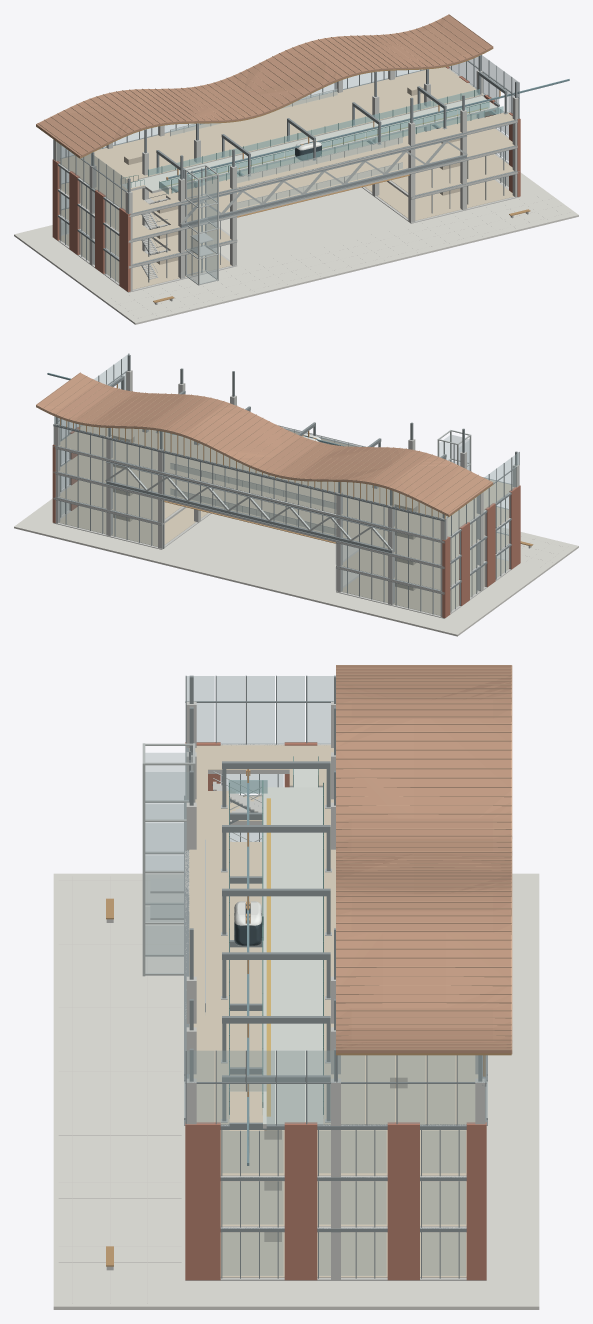
The model's file is T1_Xinhua_Gate_Cutaway_V04.glb.
3 renders of one model, top to bottom at view 1: azimuth 30°, elevation 25°; view 2: azimuth 150°, elevation 25°; view 3: azimuth 270°, elevation 25°, orthographic. The views are drawn at different scales.
Parts seen in each view (by area): view 1: DISPLAY_PLINTH_0001, COPPER_WAVE_ROOF_0001, FLOOR_FINISH_0006, FLOOR_FINISH_0005, STATION_PLATFORM_FINISH_0001, FLOOR_FINISH_0002, FLOOR_FINISH_0001, STATION_OUTER_GUARD_0027, FLOOR_FINISH_0004, FLOOR_FINISH_0003, STATION_OUTER_GUARD_0001, FLOOR_SLABS_0006_transfer (+29 smaller); view 2: DISPLAY_PLINTH_0001, COPPER_WAVE_ROOF_0001, FLOOR_FINISH_0006, FLOOR_FINISH_0005, FLOOR_FINISH_0002, FLOOR_FINISH_0001, FLOOR_FINISH_0003, FLOOR_FINISH_0004, BACK_ROOF_EDGE_0001, FLOOR_SLABS_0006_transfer, FLOOR_SLABS_0005_transfer, SIDE_BRICK_WALLS_0001 (+24 smaller); view 3: DISPLAY_PLINTH_0001, COPPER_WAVE_ROOF_0001, FLOOR_FINISH_0006, STATION_PLATFORM_FINISH_0001, FLOOR_FINISH_0005, FLOOR_FINISH_0004, FLOOR_FINISH_0002, SIDE_BRICK_WALLS_0005, SIDE_BRICK_WALLS_0006, SIDE_BRICK_WALLS_0007, SIDE_BRICK_WALLS_0008, SIDE_GLAZING_0010 (+41 smaller).
Part boxes in pixels (box(x1,y1,x2,y2)): DISPLAY_PLINTH_0001: box(14, 172, 578, 324); COPPER_WAVE_ROOF_0001: box(36, 15, 493, 157); FLOOR_FINISH_0006: box(59, 67, 514, 212); FLOOR_FINISH_0005: box(61, 115, 514, 238); STATION_PLATFORM_FINISH_0001: box(138, 96, 496, 191); FLOOR_FINISH_0002: box(365, 180, 513, 220); FLOOR_FINISH_0001: box(61, 233, 231, 289); STATION_OUTER_GUARD_0027: box(148, 89, 479, 175); FLOOR_FINISH_0004: box(391, 154, 513, 195); FLOOR_FINISH_0003: box(61, 208, 231, 263); STATION_OUTER_GUARD_0001: box(172, 106, 503, 192); FLOOR_SLABS_0006_transfer: box(58, 68, 517, 216); DISPLAY_PLINTH_0001: box(14, 498, 578, 636); COPPER_WAVE_ROOF_0001: box(37, 373, 493, 515); FLOOR_FINISH_0006: box(59, 425, 513, 539); FLOOR_FINISH_0005: box(59, 454, 509, 564); FLOOR_FINISH_0002: box(59, 506, 208, 546); FLOOR_FINISH_0001: box(342, 558, 508, 615); FLOOR_FINISH_0003: box(342, 533, 508, 589); FLOOR_FINISH_0004: box(59, 480, 181, 521); BACK_ROOF_EDGE_0001: box(36, 404, 449, 516); FLOOR_SLABS_0006_transfer: box(53, 425, 510, 543); FLOOR_SLABS_0005_transfer: box(53, 461, 510, 568); SIDE_BRICK_WALLS_0001: box(509, 485, 520, 569); DISPLAY_PLINTH_0001: box(53, 873, 539, 1309); COPPER_WAVE_ROOF_0001: box(336, 666, 511, 1053); FLOOR_FINISH_0006: box(189, 745, 478, 1124); STATION_PLATFORM_FINISH_0001: box(263, 787, 323, 1124); FLOOR_FINISH_0005: box(220, 796, 466, 1175); FLOOR_FINISH_0004: box(220, 1181, 466, 1226); FLOOR_FINISH_0002: box(220, 1232, 466, 1277); SIDE_BRICK_WALLS_0005: box(185, 1122, 220, 1280); SIDE_BRICK_WALLS_0006: box(284, 1122, 317, 1280); SIDE_BRICK_WALLS_0007: box(387, 1122, 419, 1280); SIDE_BRICK_WALLS_0008: box(466, 1122, 486, 1280); SIDE_GLAZING_0010: box(222, 1233, 283, 1275).
Size of the model in its own units: 88.8 by 22.77 by 38.7.
